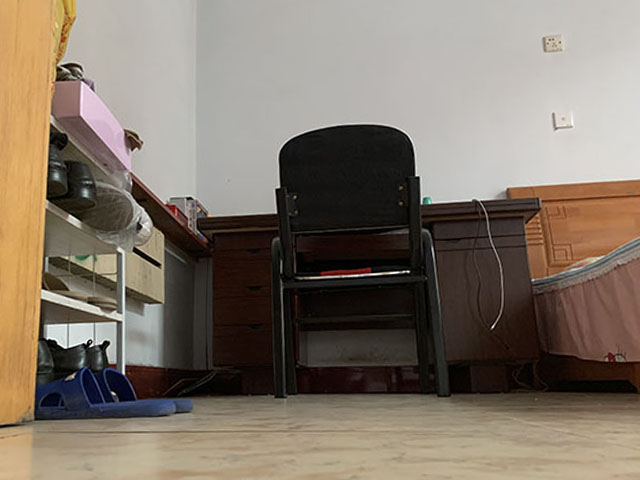bed: (504, 179, 640, 397)
slippers: (34, 363, 195, 422)
stool: (268, 123, 450, 400)
table: (194, 196, 545, 395)
